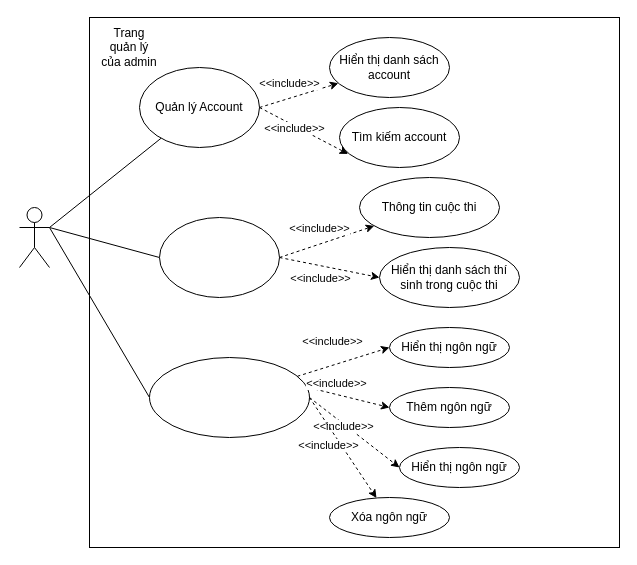
The diagram is 637 pixels wide and 565 high, and some of its shapes have lost their labels. The box of each missing label's shape, as (x1, y1, x2, y2) in pixels:
Admin: (18, 206, 50, 268)
Quản lý các cuộc thi: (158, 216, 280, 298)
Quản lý ngôn ngữ sử dụng: (148, 356, 310, 438)
